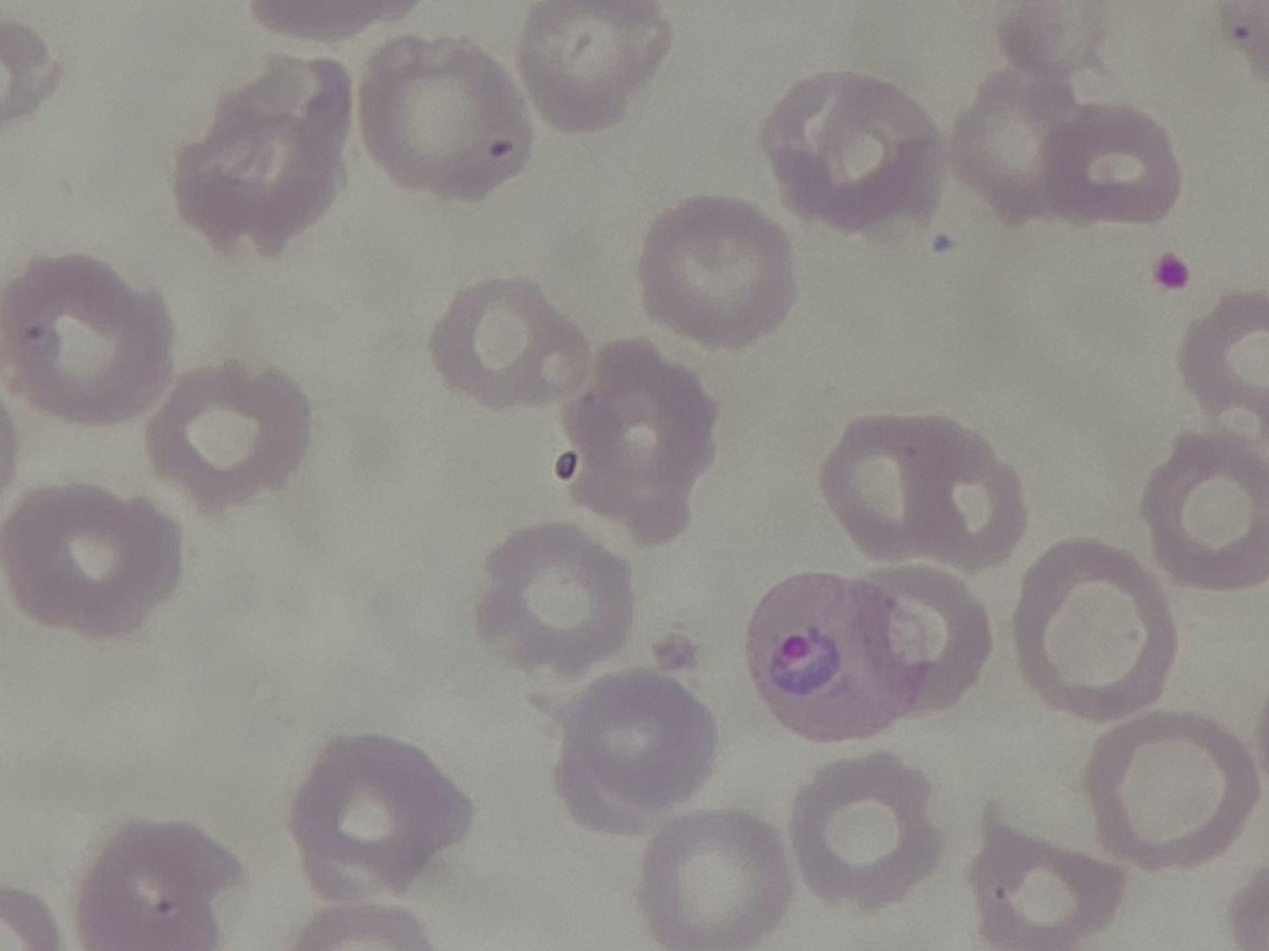Infected: (745, 576, 931, 743)
Uninfected: (176, 51, 355, 248), (291, 732, 473, 906), (756, 67, 941, 237), (570, 333, 715, 547), (817, 410, 1022, 561), (0, 250, 176, 423), (0, 481, 185, 640), (1016, 538, 1178, 718), (1088, 701, 1254, 871), (361, 32, 530, 196), (476, 523, 637, 689), (560, 670, 711, 834), (639, 195, 803, 346), (793, 750, 944, 906), (154, 358, 310, 509), (434, 269, 592, 415), (969, 811, 1125, 951), (859, 560, 994, 718), (1134, 435, 1269, 593), (641, 811, 789, 951), (524, 0, 665, 142), (1046, 95, 1179, 230)
